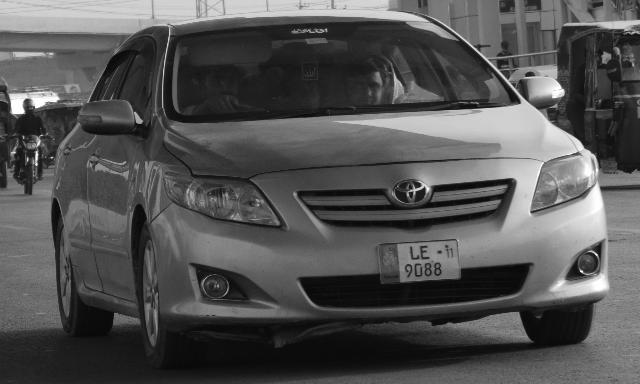Number: (402, 244, 446, 278)
